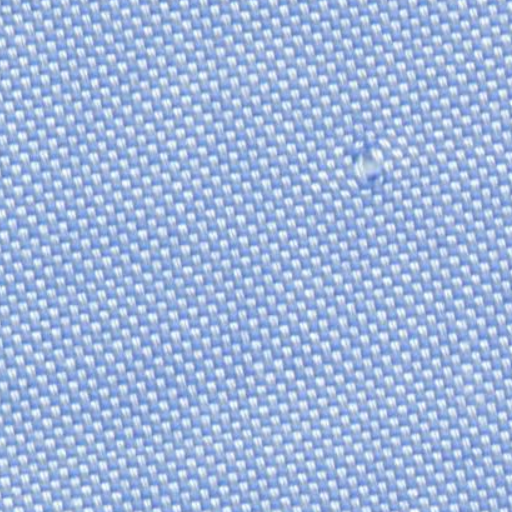PoDong: (336, 126, 408, 195)
